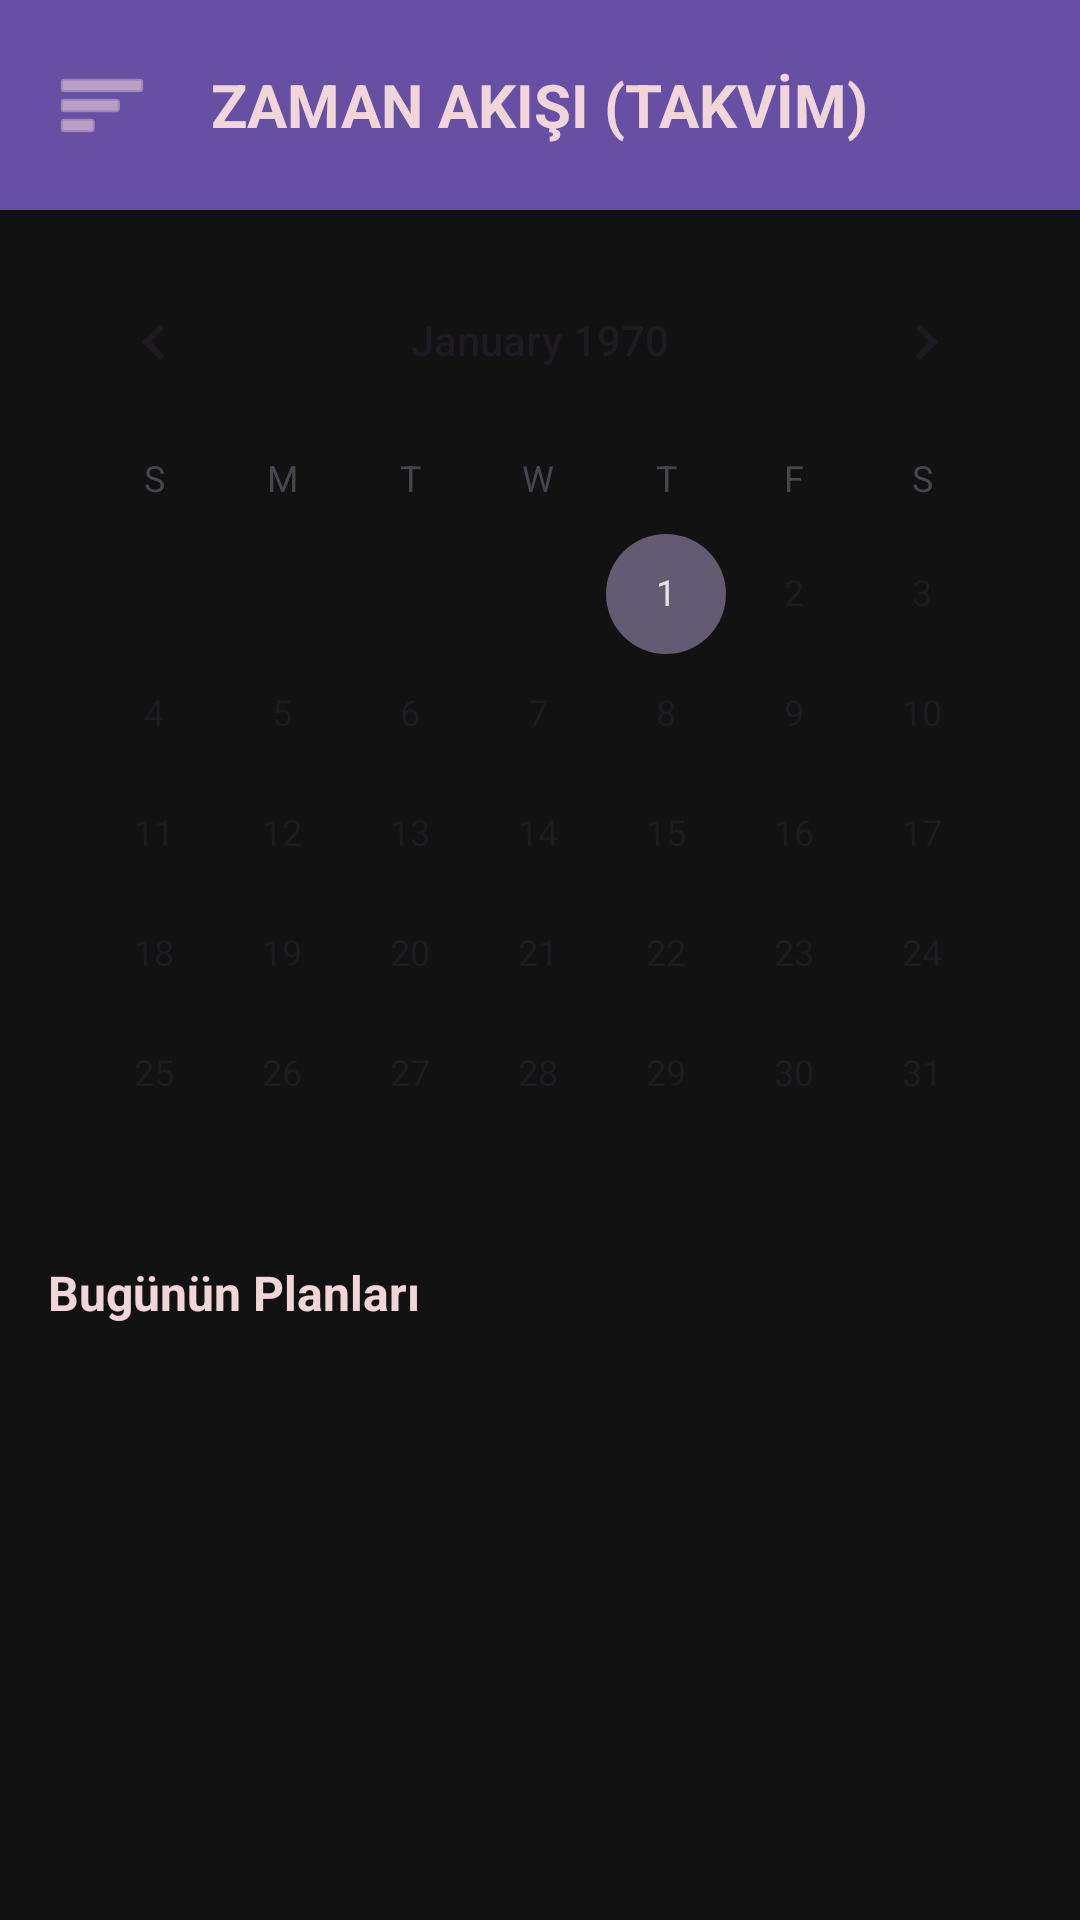

Icon bounding boxes for this 1080×1920 phone screenshot, format region(x1, y1, x2, y2):
Menü Aç: region(61, 79, 143, 132)
